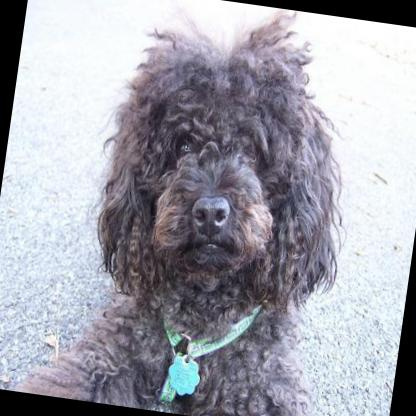toy_poodle: (17, 0, 377, 416)
